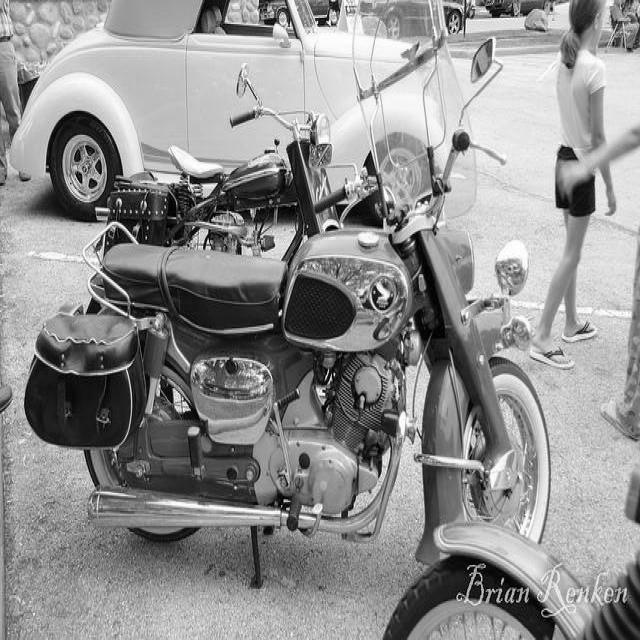vehicle: (25, 2, 553, 589), (11, 11, 441, 214), (92, 66, 328, 250), (383, 523, 640, 640), (443, 0, 464, 34)
